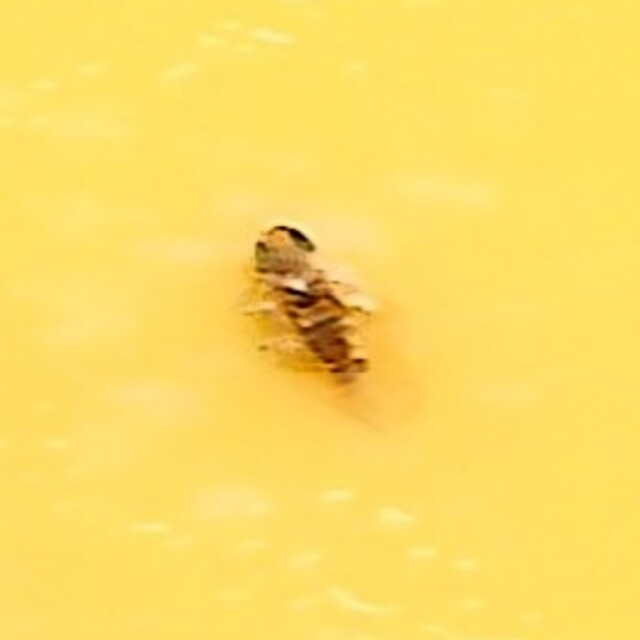Hemiptera: (245, 229, 395, 411)
